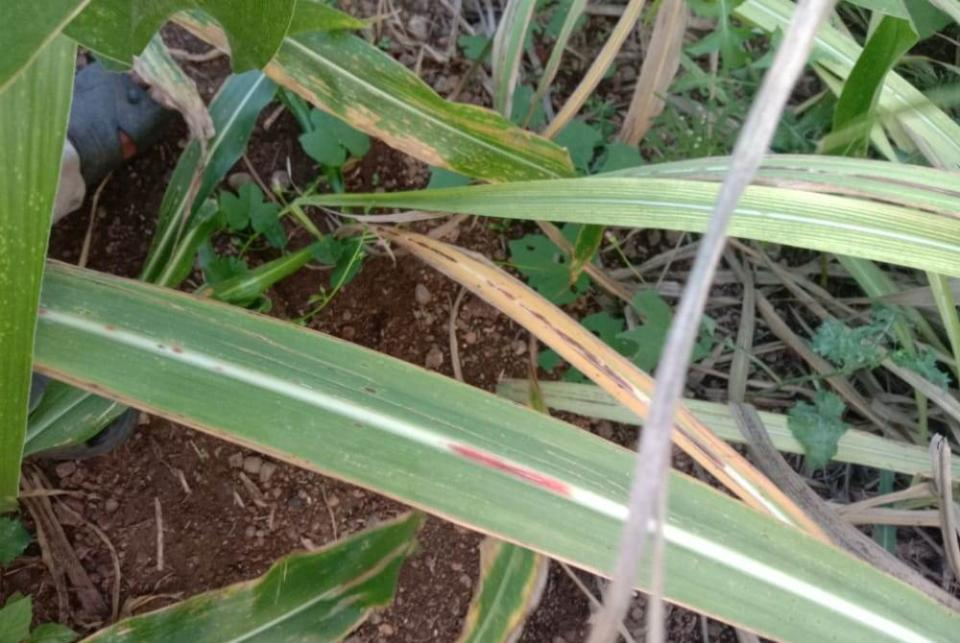RedRot: (485, 280, 635, 392), (440, 442, 572, 499), (376, 227, 457, 263), (845, 173, 959, 198), (673, 422, 725, 468), (757, 165, 808, 171), (171, 346, 183, 355), (39, 308, 46, 315), (213, 366, 222, 371), (817, 168, 826, 173), (107, 326, 115, 331), (156, 345, 165, 349)
Rust: (362, 387, 376, 394)
Yellow: (33, 361, 612, 580), (405, 244, 647, 420), (405, 232, 653, 396), (676, 398, 832, 544), (670, 428, 773, 515)
